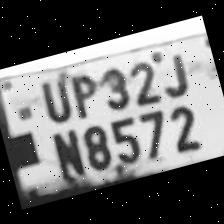2: (159, 95, 205, 156), (120, 51, 163, 108)
3: (90, 57, 134, 112)
5: (103, 110, 144, 166)
7: (131, 102, 172, 161)
8: (74, 117, 116, 176)
J: (149, 41, 193, 100)
N: (42, 121, 88, 184)
P: (62, 64, 104, 120)
U: (30, 69, 75, 127)
